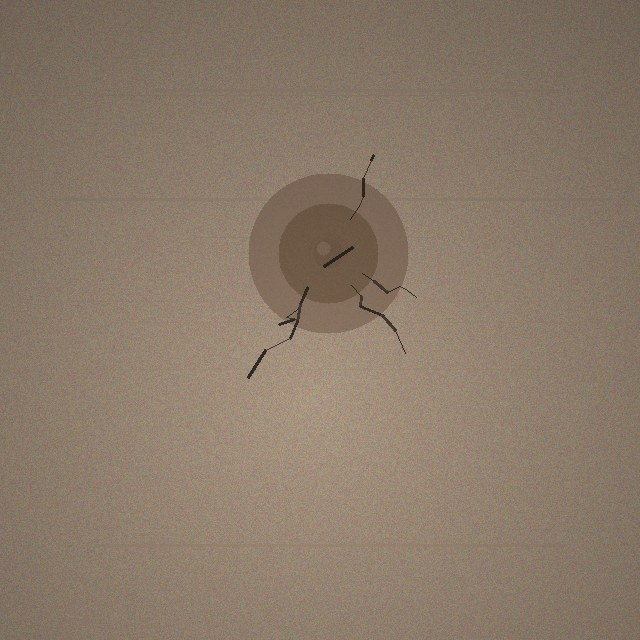crack: (248, 173, 408, 333)
